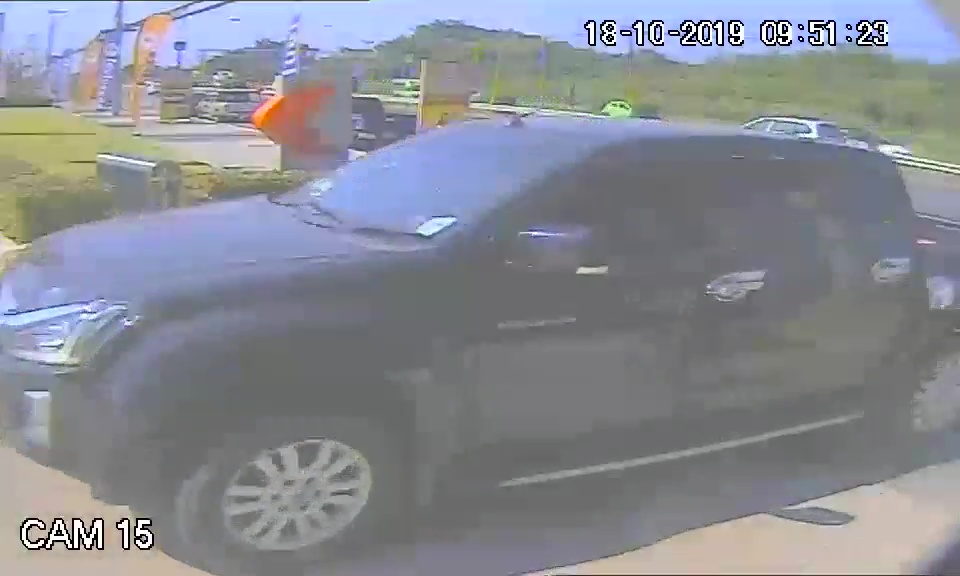pickup: (3, 112, 960, 506)
